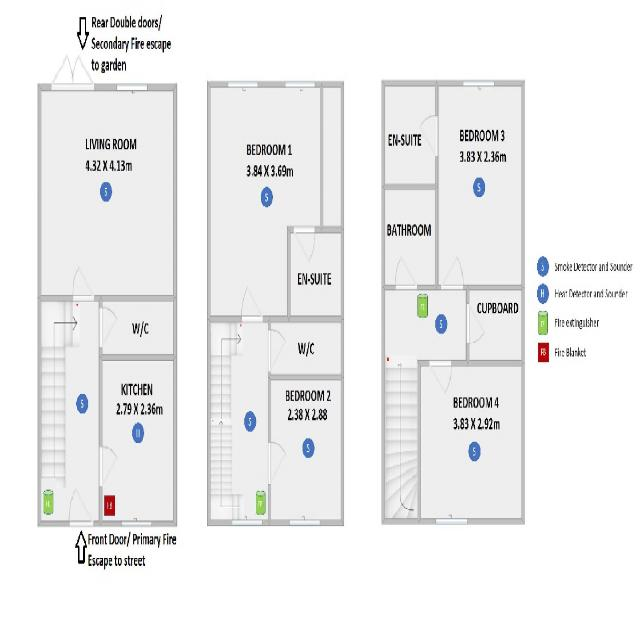DOOR: (68, 486, 94, 527), (417, 113, 439, 158), (292, 225, 316, 266), (98, 444, 119, 489), (439, 254, 464, 290), (267, 441, 287, 486), (72, 263, 95, 302), (428, 359, 452, 396), (241, 283, 263, 323), (99, 305, 119, 349), (394, 254, 418, 290), (268, 328, 287, 373)
DOUBLE DOOR: (47, 38, 97, 93)
ROOM: (37, 83, 177, 302), (206, 80, 323, 323), (417, 80, 525, 290), (417, 359, 525, 525), (98, 354, 177, 528), (267, 374, 344, 527)
WINDOW: (435, 517, 468, 526), (462, 79, 495, 88), (289, 518, 321, 527), (116, 83, 148, 92), (120, 520, 153, 528), (231, 519, 263, 527), (227, 80, 258, 88), (284, 81, 315, 88)
